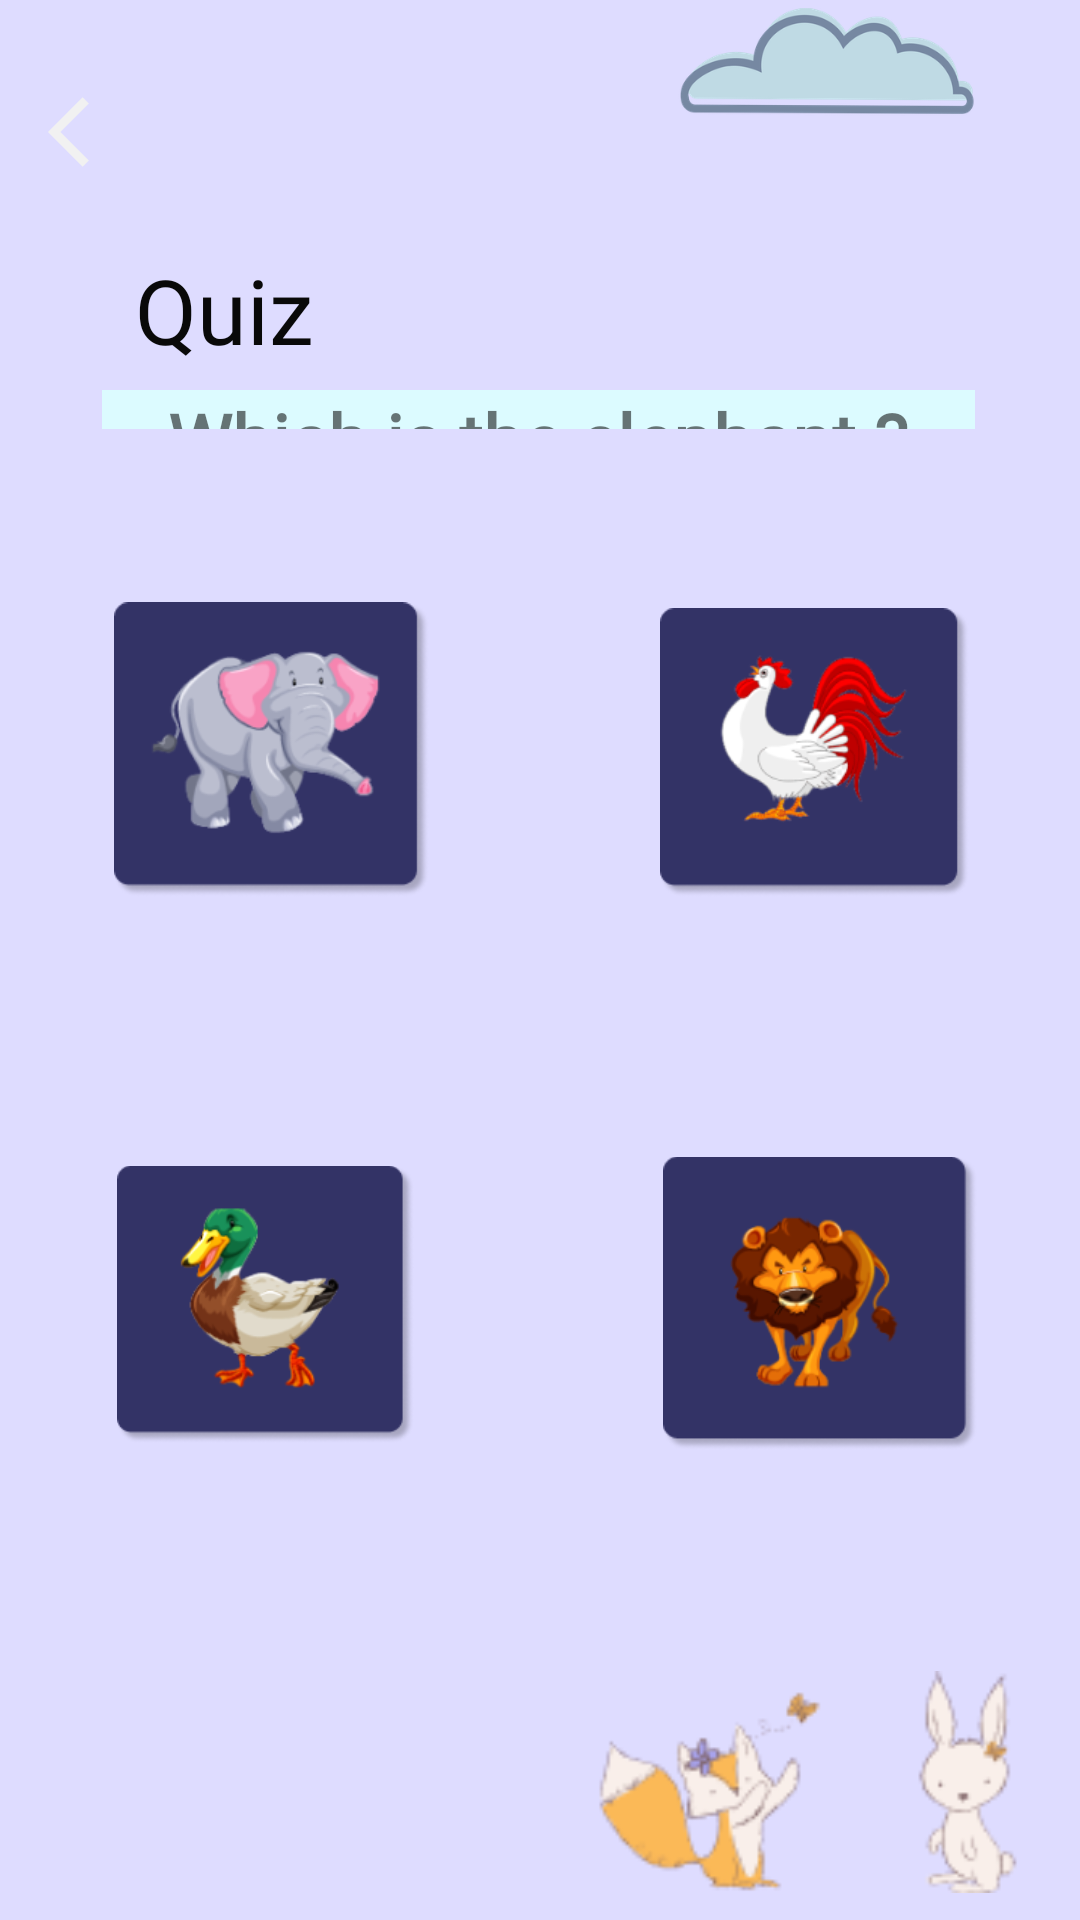

Locate icon controls on the screen. Image size 1080*1920, boxes as detection(x1, y1, x2, y2).
ayamkuis: detection(660, 608, 964, 892)
bebekkuis: detection(117, 1166, 409, 1439)
cloud: detection(680, 8, 974, 114)
gajahkuis: detection(114, 602, 424, 892)
singakuis: detection(663, 1157, 972, 1445)
